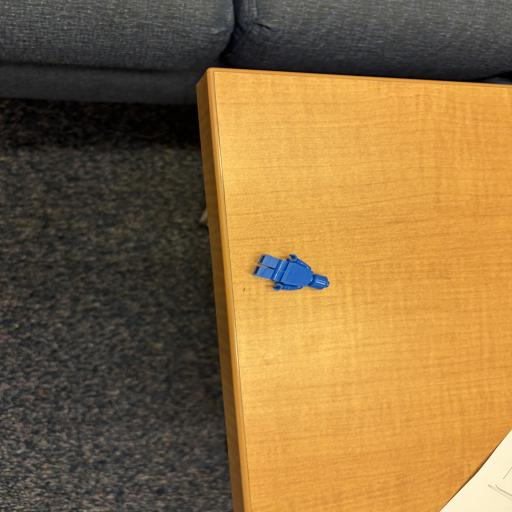Blue-Lego-Minifig: (252, 254, 330, 291)
